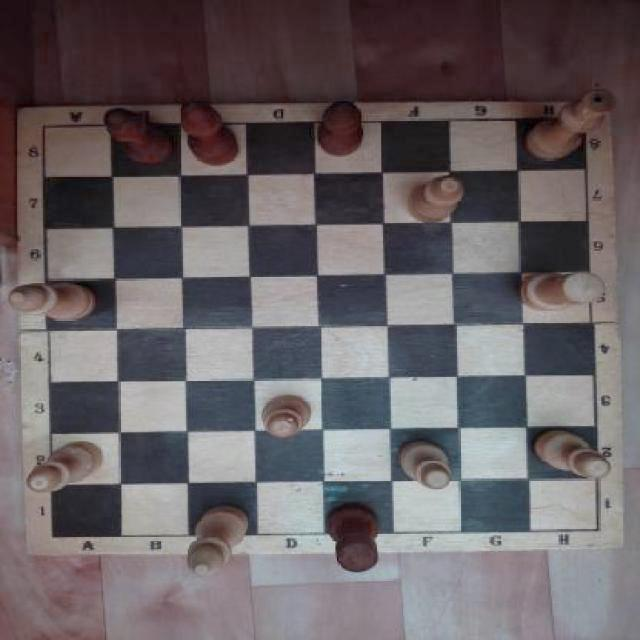chess-table-corners: (564, 502, 624, 550), (18, 106, 78, 152), (548, 101, 610, 145), (26, 514, 80, 556)
